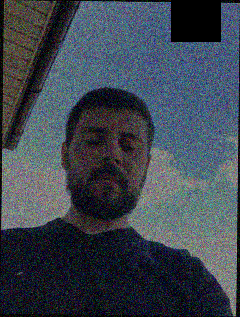without_mask: (68, 119, 146, 220)
